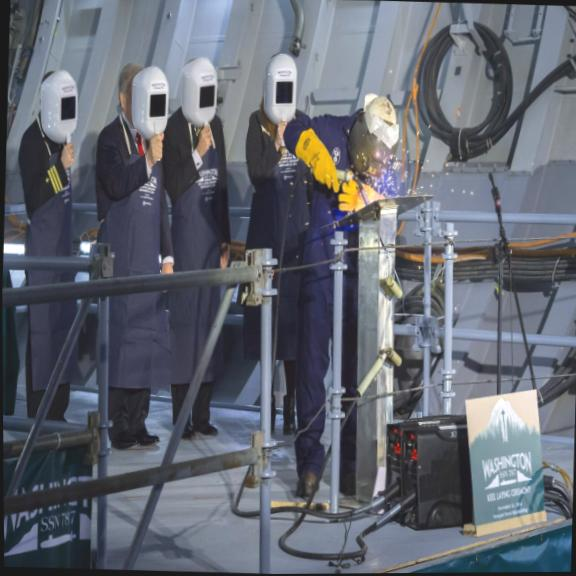no_safety_vest: (300, 109, 402, 244), (159, 102, 235, 223), (242, 97, 313, 212), (91, 112, 167, 218), (15, 113, 81, 219)
